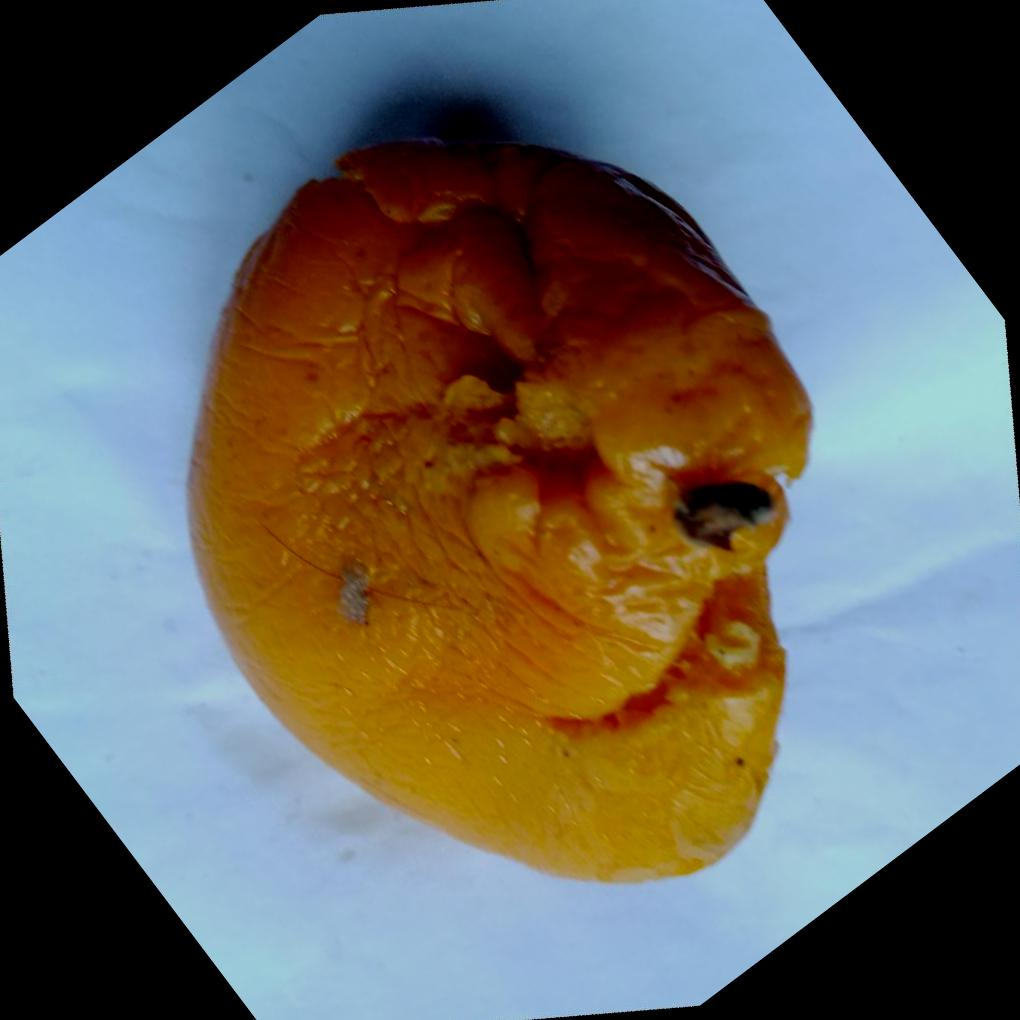FreshOrange: (179, 139, 815, 891)
